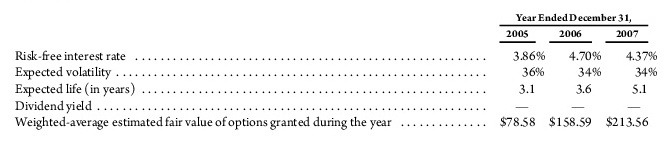table: (0, 0, 669, 149)
